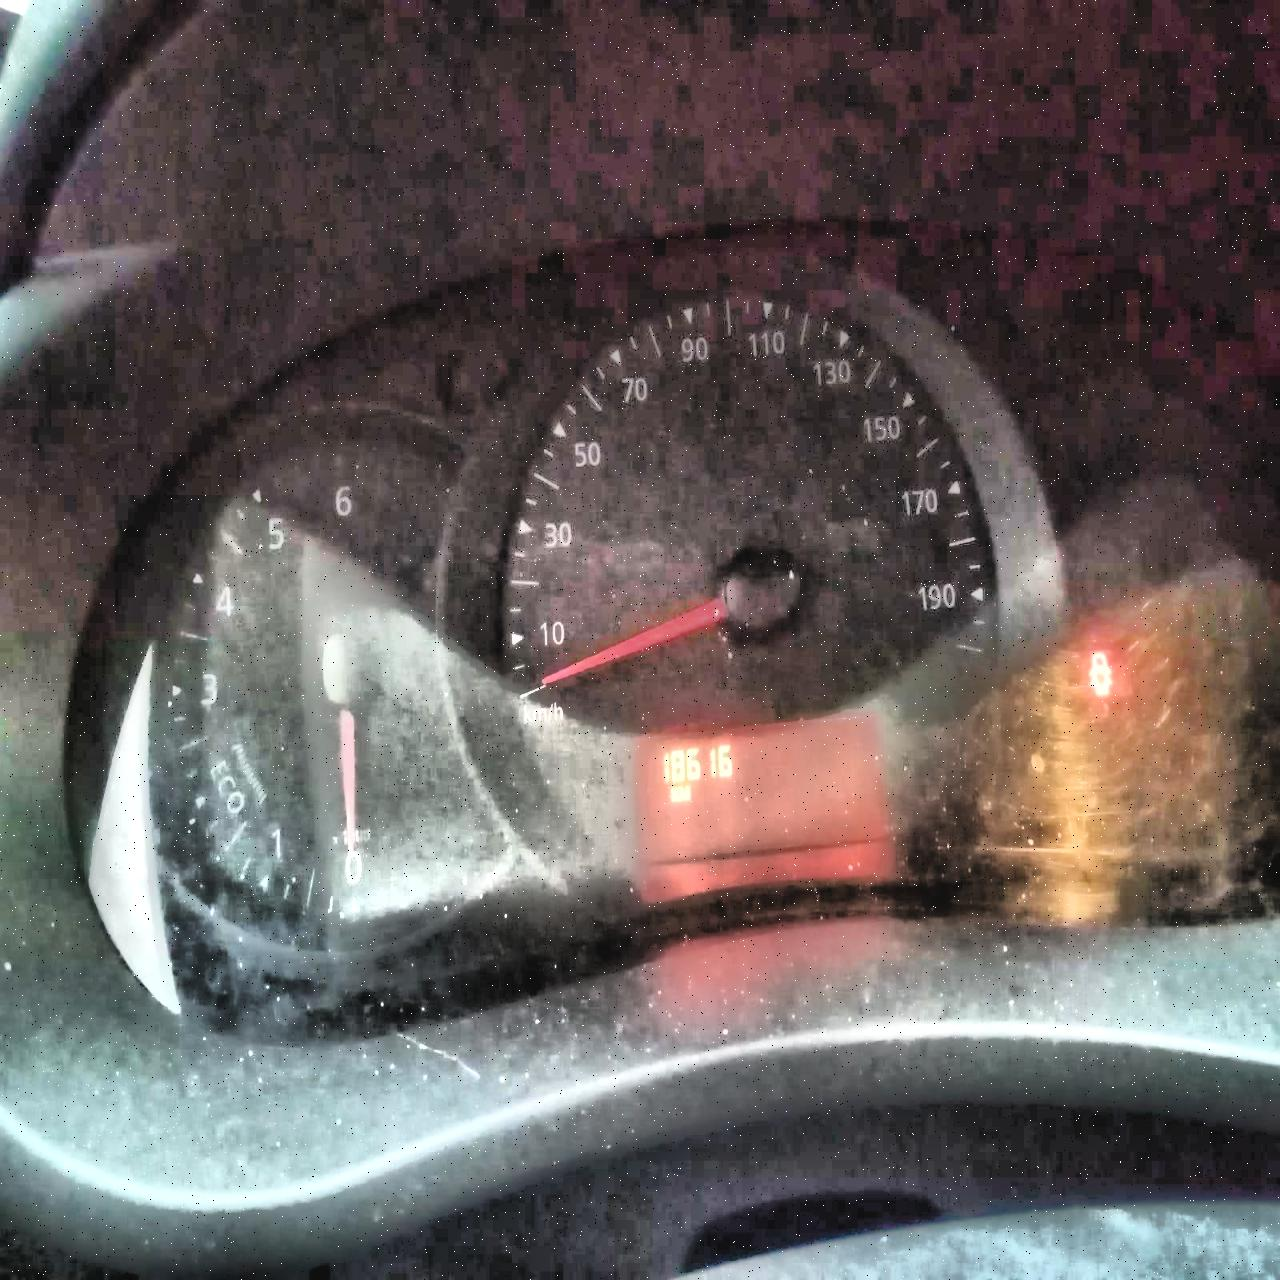1: (660, 747, 669, 783), (708, 743, 716, 782)
6: (717, 741, 733, 778), (686, 744, 701, 778)
8: (669, 748, 685, 783)
X: (678, 783, 690, 802), (668, 784, 678, 802)
odometer: (629, 715, 896, 850)
